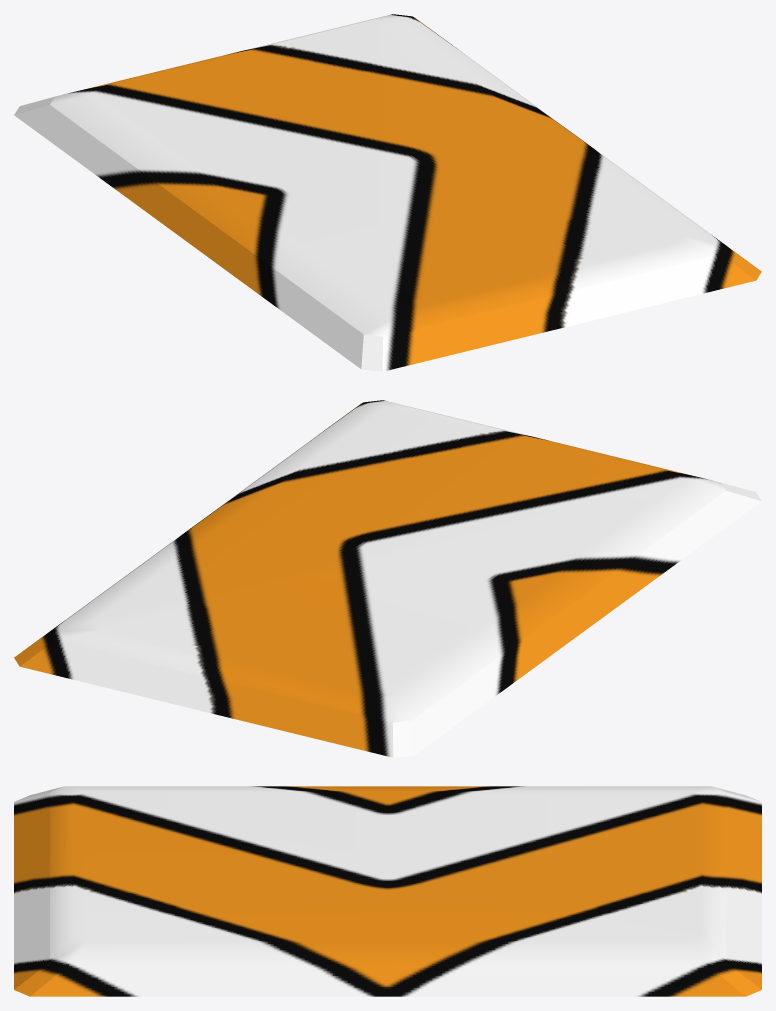
File: O_Boost pad.fbx
3 views of the same model, one above another, from view 1: azimuth 30°, elevation 25°; view 2: azimuth 150°, elevation 25°; view 3: azimuth 270°, elevation 25° (orthographic). The views are drawn at different scales.
Parts seen in each view (by area): view 1: pCube1; view 2: pCube1; view 3: pCube1.
Boxes of the visible parts, <box> form: pCube1: <box>14,14,761,371</box>; pCube1: <box>14,400,761,757</box>; pCube1: <box>14,786,761,996</box>.
Bounding box in the file's own units: 476 × 32 × 747.
